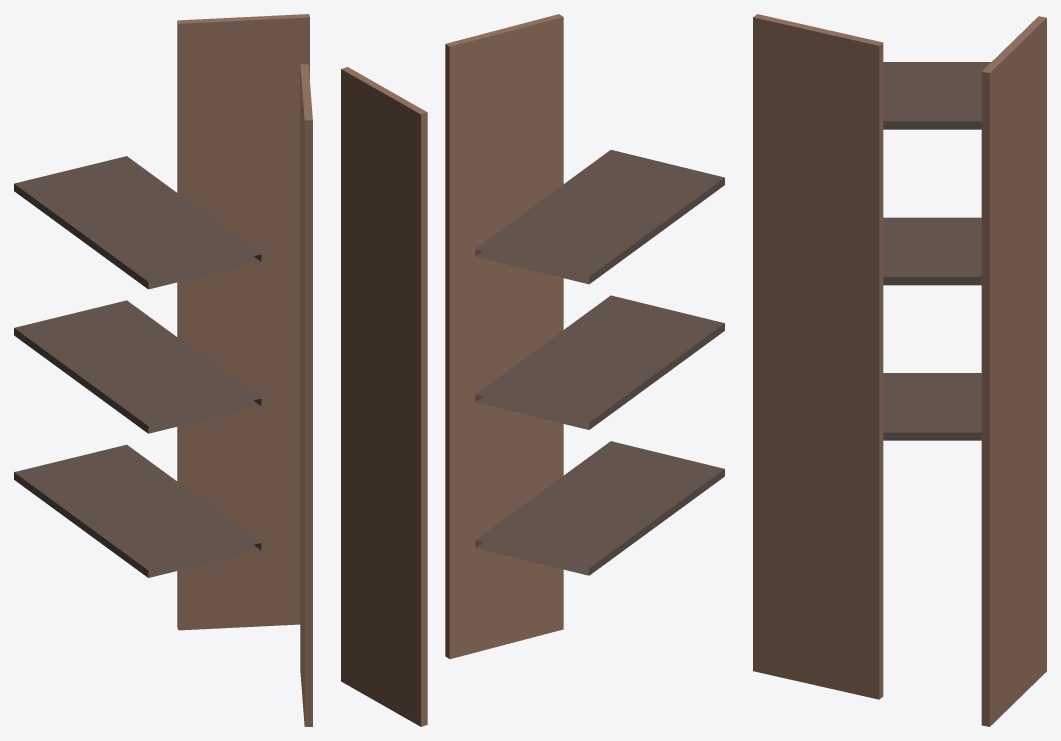
File: Closet2.fbx
3 views of the same model, side by side, from view 1: azimuth 30°, elevation 25°; view 2: azimuth 150°, elevation 25°; view 3: azimuth 270°, elevation 25° (orthographic). The views are drawn at different scales.
Parts seen in each view (by area): view 1: Closet2; view 2: Closet2; view 3: Closet2.
Boxes of the visible parts, <box> form: Closet2: <box>14,14,312,726</box>; Closet2: <box>341,14,724,726</box>; Closet2: <box>753,14,1046,726</box>.
Bounding box in the file's own units: 121 × 260 × 106.
